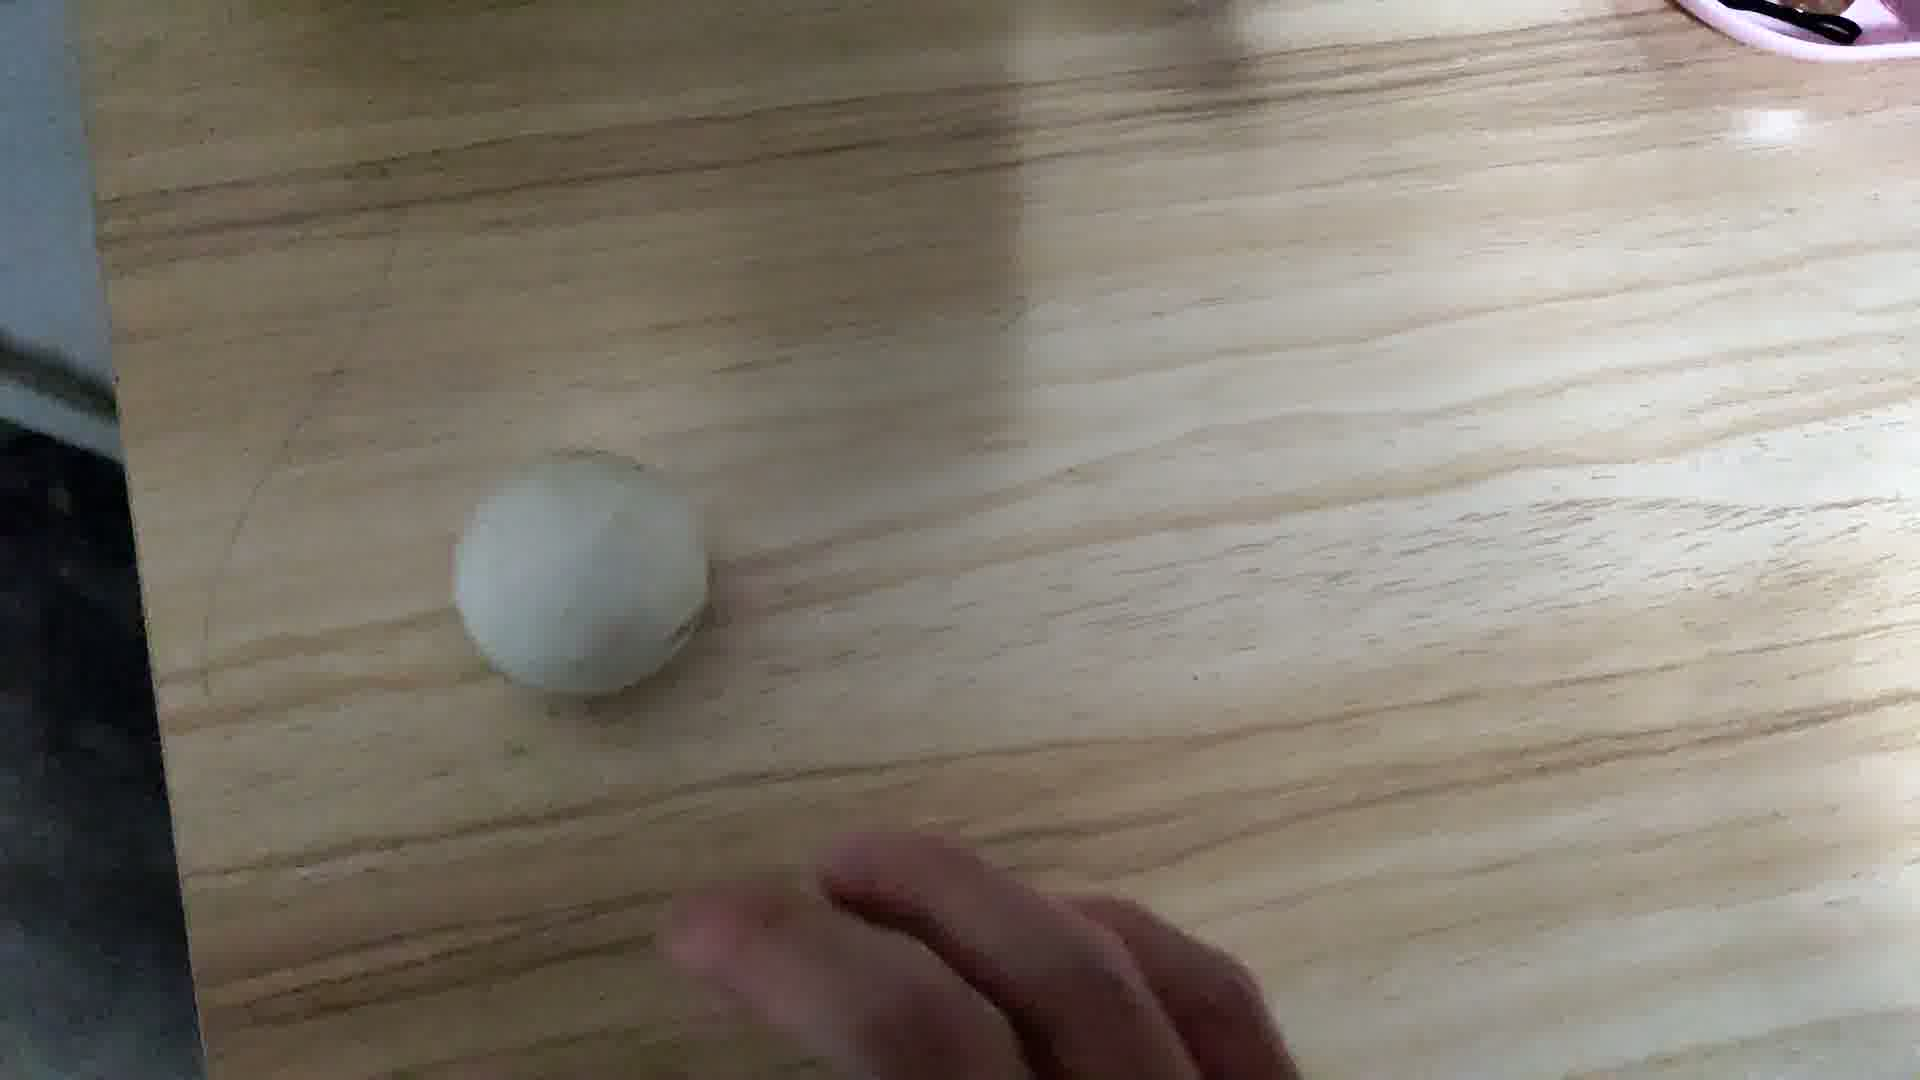Ball: (451, 448, 712, 698)
